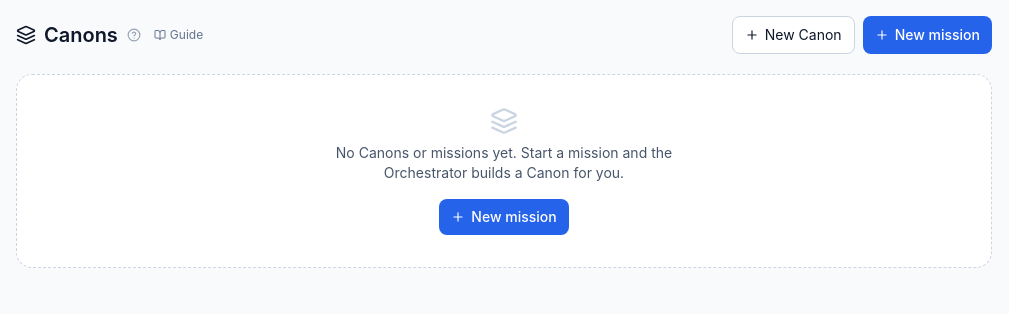
Scenario: plan list as a live view › shows an empty state that starts a mission when there are no Canons and no missions
The image size is (1009, 314).
Expected: the element with test id "canon-empty" shows "Start a mission", [336,144,672,181]
Click the 2nd button "New mission" at (504, 217), box [439,199,569,235]
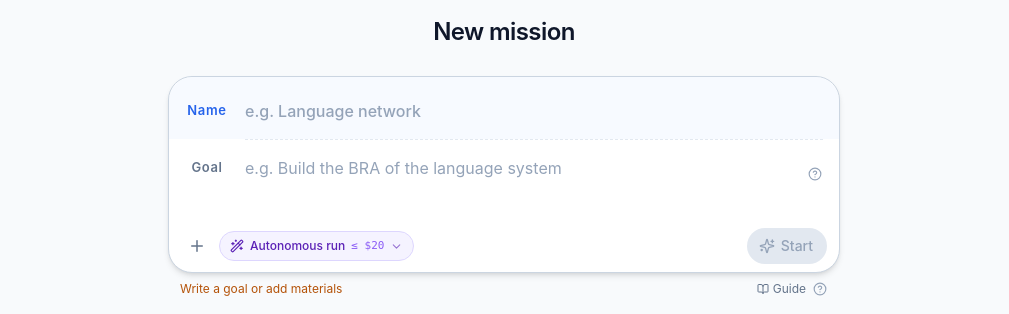
Result: the element with test id "plan-new-page" is shown at [168,17,840,297]
